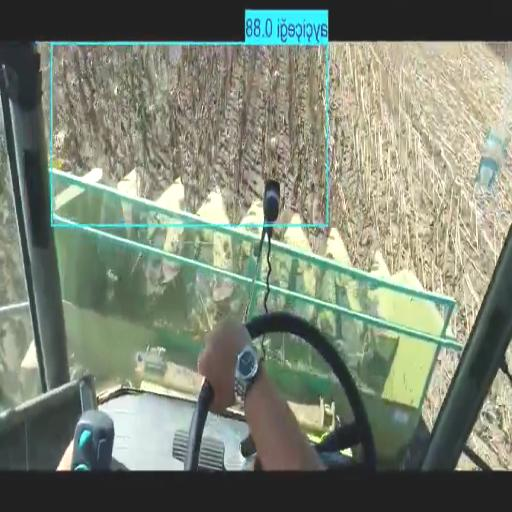ayc: (54, 45, 327, 223)
